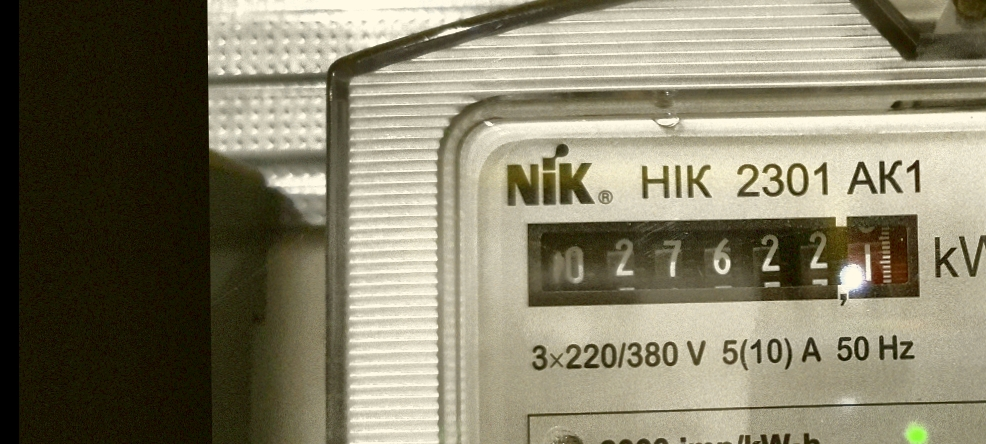0: (563, 242, 588, 285)
1: (860, 240, 877, 283)
2: (758, 231, 783, 273), (613, 236, 637, 279), (808, 228, 831, 270)
6: (711, 235, 734, 276)
7: (662, 237, 685, 280)
screen: (515, 204, 934, 313)
